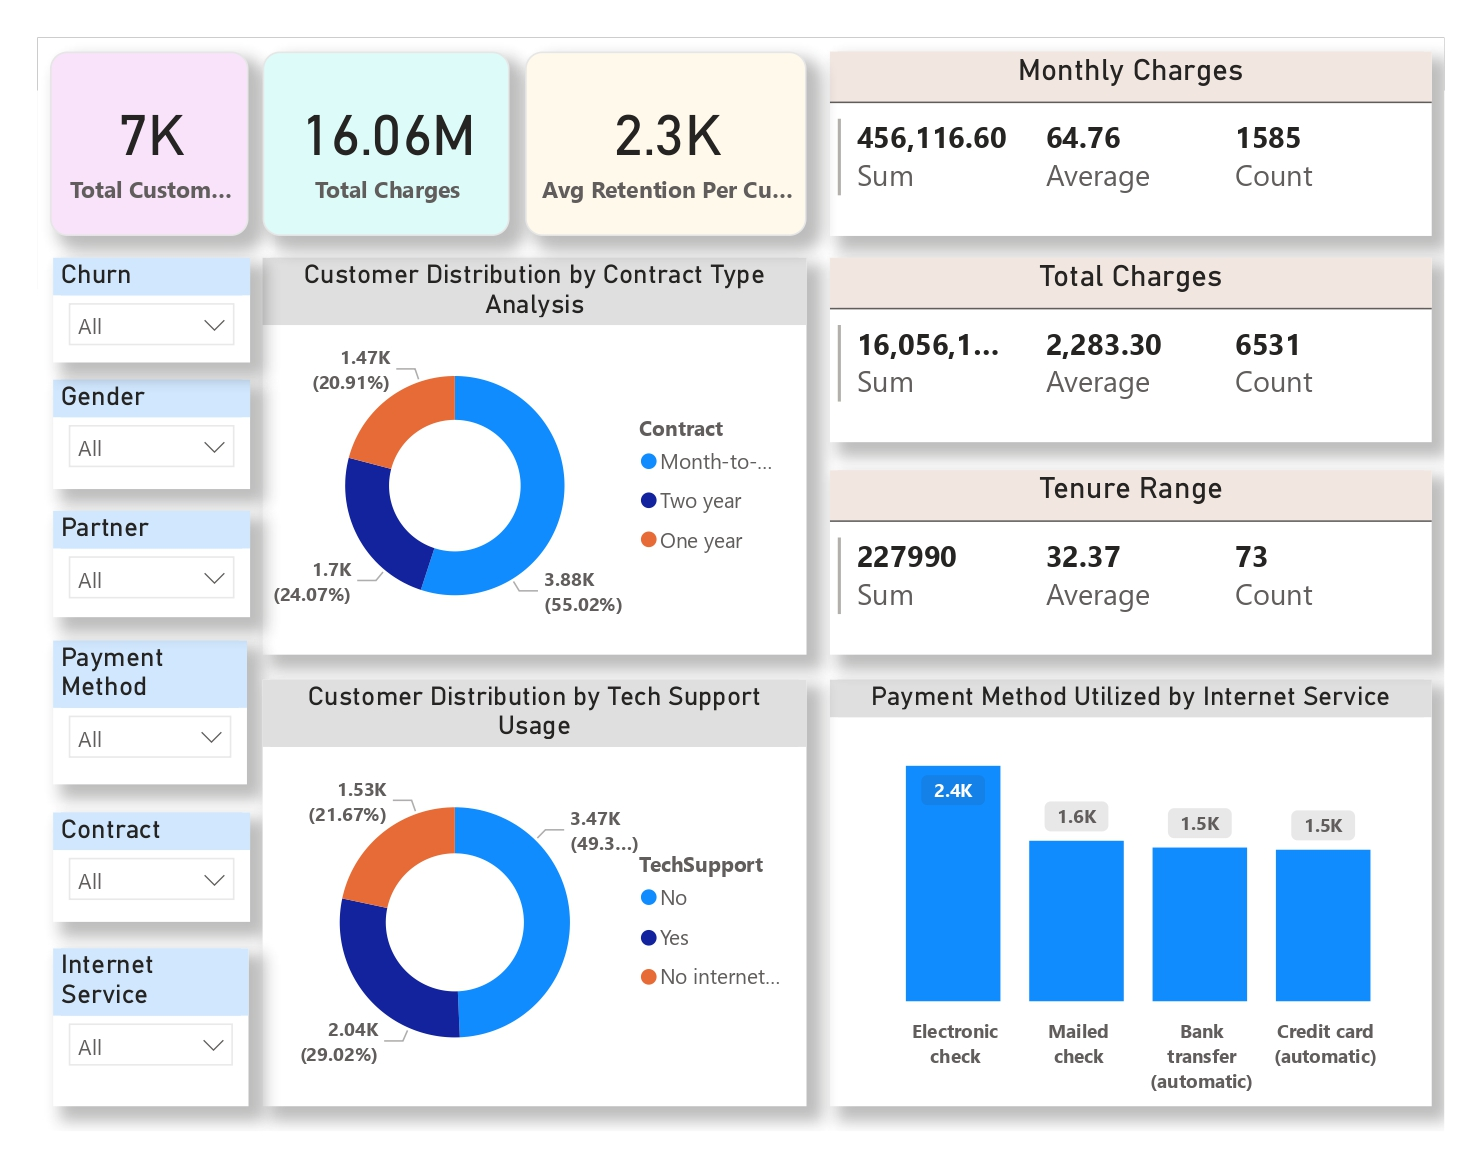

This screenshot's page, from the dashboard's own definition file:
{"tool":"powerbi","page":{"name":"Overview & Key Metrics","canvas":[900,700],"ordinal":1},"visuals":[{"type":"donutChart","title":"Customer Distribution by Contract Type Analysis","fields":{"Y":["CountNonNull(WA_Fn-UseC_-Telco-Customer-Churn.customerID)"],"Category":["WA_Fn-UseC_-Telco-Customer-Churn.Contract"]},"box":[144,141,348,254],"z":0},{"type":"clusteredColumnChart","title":"Payment Method Utilized by Internet Service","fields":{"Category":["WA_Fn-UseC_-Telco-Customer-Churn.PaymentMethod"],"Y":["CountNonNull(WA_Fn-UseC_-Telco-Customer-Churn.InternetService)"]},"box":[507,411,385,273],"z":1000},{"type":"card","fields":{"Values":["CountNonNull(WA_Fn-UseC_-Telco-Customer-Churn.customerID)"]},"box":[8,9,127,118],"z":2000},{"type":"card","fields":{"Values":["Sum(WA_Fn-UseC_-Telco-Customer-Churn.TotalCharges)"]},"box":[144,9,158,118],"z":3000},{"type":"multiRowCard","title":"Monthly Charges","fields":{"Values":["Sum(WA_Fn-UseC_-Telco-Customer-Churn.MonthlyCharges)","Avg(WA_Fn-UseC_-Telco-Customer-Churn.MonthlyCharges)","Count(WA_Fn-UseC_-Telco-Customer-Churn.MonthlyCharges)"]},"box":[507,9,385,118],"z":4000},{"type":"slicer","title":"Gender","fields":{"Values":["WA_Fn-UseC_-Telco-Customer-Churn.gender"]},"box":[10,219,126,70],"z":5000},{"type":"slicer","title":"Payment Method","fields":{"Values":["WA_Fn-UseC_-Telco-Customer-Churn.PaymentMethod"]},"box":[10,386,124,92],"z":6000},{"type":"slicer","title":"Partner","fields":{"Values":["WA_Fn-UseC_-Telco-Customer-Churn.Partner"]},"box":[10,303,126,68],"z":7000},{"type":"slicer","title":"Contract","fields":{"Values":["WA_Fn-UseC_-Telco-Customer-Churn.Contract"]},"box":[10,496,126,70],"z":8000},{"type":"multiRowCard","title":"Total Charges","fields":{"Values":["Sum(WA_Fn-UseC_-Telco-Customer-Churn.TotalCharges)","Avg(WA_Fn-UseC_-Telco-Customer-Churn.TotalCharges)","Count(WA_Fn-UseC_-Telco-Customer-Churn.TotalCharges)"]},"box":[507,141,385,118],"z":9000},{"type":"multiRowCard","title":"Tenure Range","fields":{"Values":["Sum(WA_Fn-UseC_-Telco-Customer-Churn.tenure)","Avg(WA_Fn-UseC_-Telco-Customer-Churn.tenure)","Count(WA_Fn-UseC_-Telco-Customer-Churn.tenure)"]},"box":[507,277,385,118],"z":10000},{"type":"donutChart","title":"Customer Distribution by Tech Support Usage","fields":{"Y":["CountNonNull(WA_Fn-UseC_-Telco-Customer-Churn.customerID)"],"Category":["WA_Fn-UseC_-Telco-Customer-Churn.TechSupport"]},"box":[144,411,348,273],"z":11000},{"type":"slicer","title":"Internet Service","fields":{"Values":["WA_Fn-UseC_-Telco-Customer-Churn.InternetService"]},"box":[10,583,125,101],"z":12000},{"type":"slicer","title":"Churn","fields":{"Values":["WA_Fn-UseC_-Telco-Customer-Churn.Churn"]},"box":[10,141,126,67],"z":13000},{"type":"card","title":"arpc","fields":{"Values":["WA_Fn-UseC_-Telco-Customer-Churn.ARPU"]},"box":[312,9,180,118],"z":14000}]}

Visuals, with their boxes in screenshot pixels (x1, y1, x2, y2):
"Customer Distribution by Contract Type Analysis" donutChart: {"x1": 263, "y1": 258, "x2": 807, "y2": 655}
"Payment Method Utilized by Internet Service" clusteredColumnChart: {"x1": 830, "y1": 680, "x2": 1432, "y2": 1106}
card - CountNonNull(WA_Fn-UseC_-Telco-Customer-Churn.customerID): {"x1": 50, "y1": 52, "x2": 249, "y2": 236}
card - Sum(WA_Fn-UseC_-Telco-Customer-Churn.TotalCharges): {"x1": 263, "y1": 52, "x2": 510, "y2": 236}
"Monthly Charges" multiRowCard: {"x1": 830, "y1": 52, "x2": 1432, "y2": 236}
"Gender" slicer: {"x1": 53, "y1": 380, "x2": 250, "y2": 489}
"Payment Method" slicer: {"x1": 53, "y1": 641, "x2": 247, "y2": 785}
"Partner" slicer: {"x1": 53, "y1": 511, "x2": 250, "y2": 617}
"Contract" slicer: {"x1": 53, "y1": 813, "x2": 250, "y2": 922}
"Total Charges" multiRowCard: {"x1": 830, "y1": 258, "x2": 1432, "y2": 442}
"Tenure Range" multiRowCard: {"x1": 830, "y1": 470, "x2": 1432, "y2": 655}
"Customer Distribution by Tech Support Usage" donutChart: {"x1": 263, "y1": 680, "x2": 807, "y2": 1106}
"Internet Service" slicer: {"x1": 53, "y1": 949, "x2": 249, "y2": 1106}
"Churn" slicer: {"x1": 53, "y1": 258, "x2": 250, "y2": 363}
"arpc" card: {"x1": 525, "y1": 52, "x2": 807, "y2": 236}
